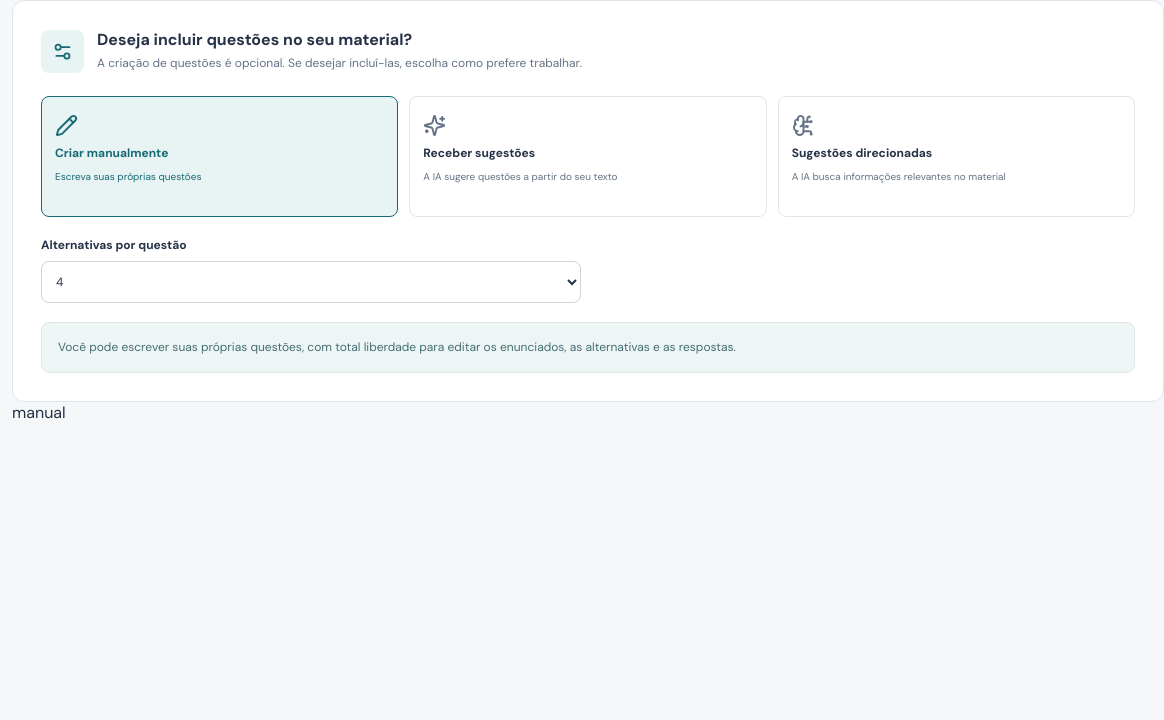
opções de preparação do material › permite selecionar sugestões de questões
The image size is (1164, 720).
Click the button "Receber sugestões A IA sugere questões a partir do seu texto".
click(479, 153)  # box [409,96,767,217]
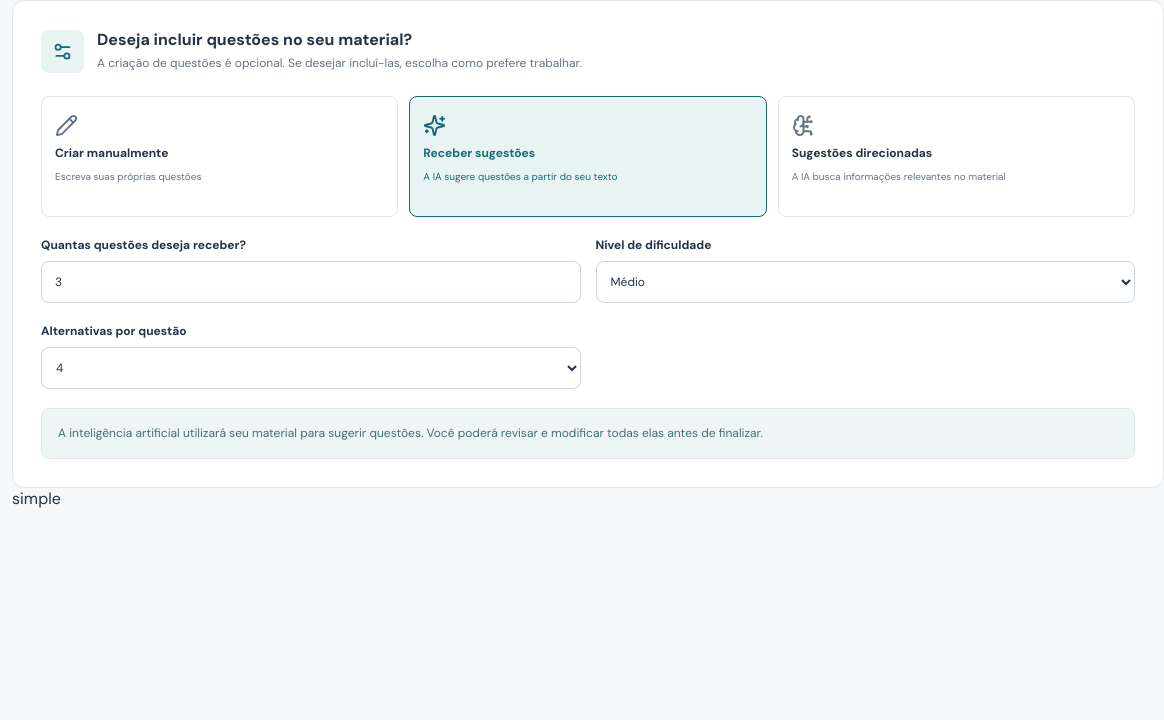
Check: the text with test id "selected-mode" reads "simple", box [12,488,61,509]
